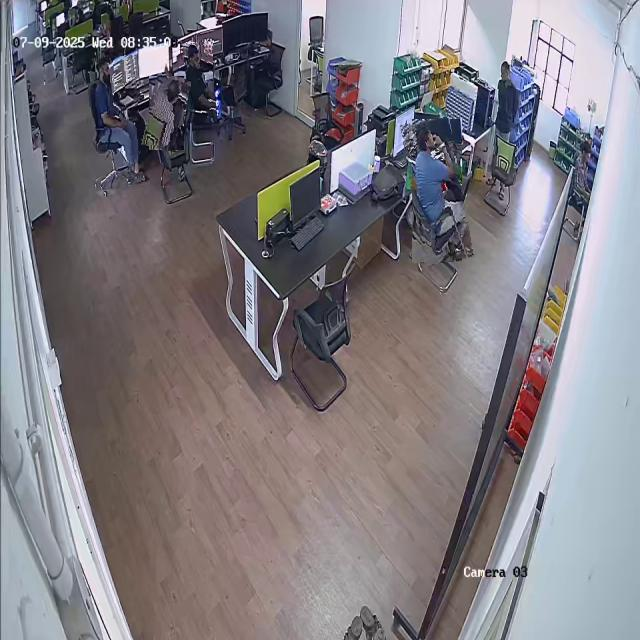person: (406, 117, 468, 264), (88, 56, 143, 189), (489, 60, 518, 174), (145, 75, 188, 151), (184, 42, 215, 124)
